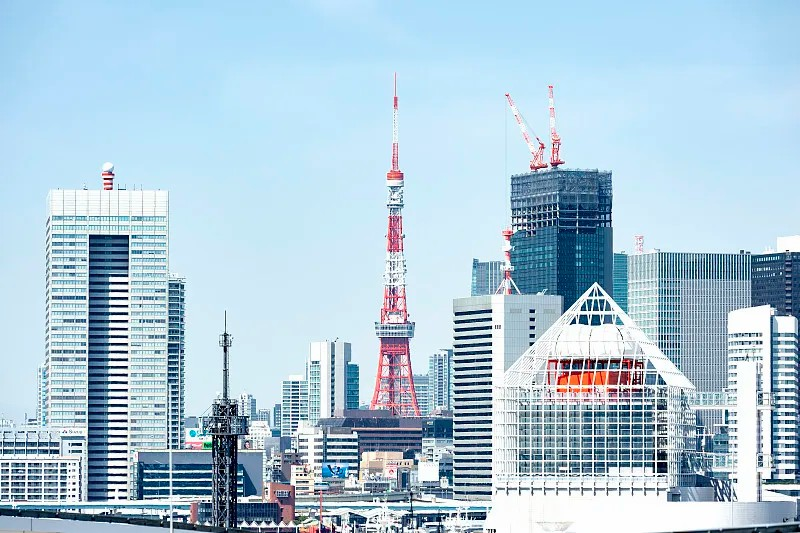Tokyo: (369, 69, 425, 416)
